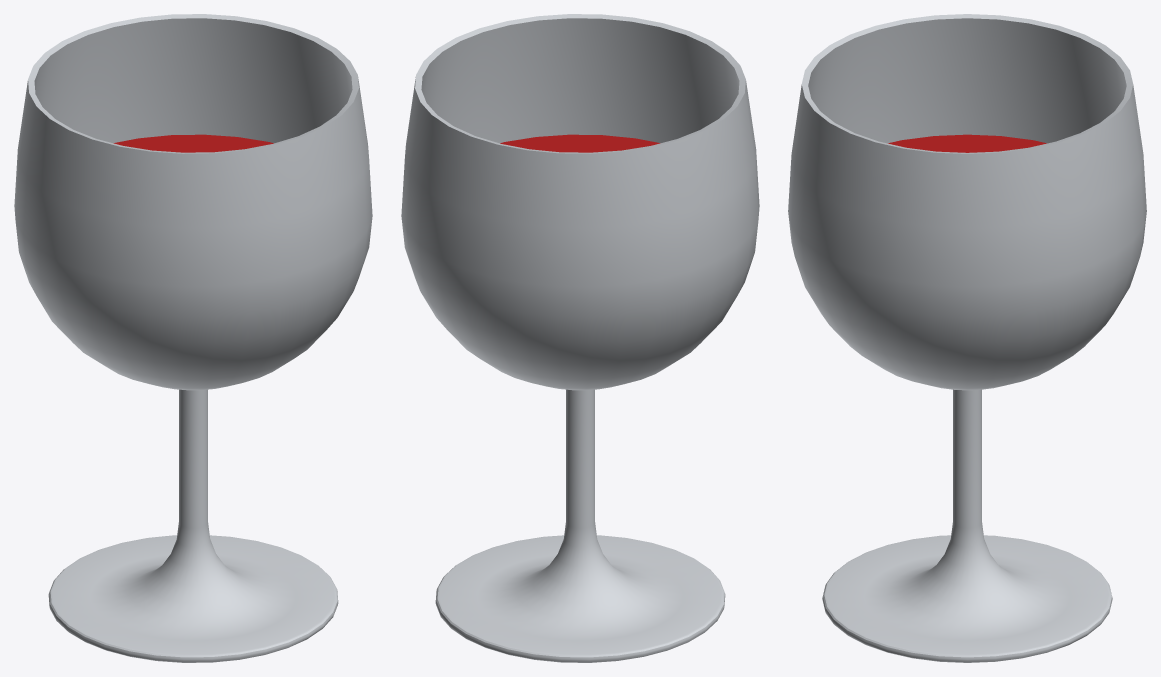
File: wine_glass.glb
3 views of the same model, side by side, from view 1: azimuth 30°, elevation 25°; view 2: azimuth 150°, elevation 25°; view 3: azimuth 270°, elevation 25° (orthographic).
Parts seen in each view (by area): view 1: Circle.2277; view 2: Circle.2277; view 3: Circle.2277.
Part boxes in pixels (x1,y1,x2,y2): Circle.2277: (14,14,372,662); Circle.2277: (401,14,759,662); Circle.2277: (788,14,1146,662).
Size of the model in its own units: 1.33 by 2.12 by 1.33.
2 materials, 1 textured.
